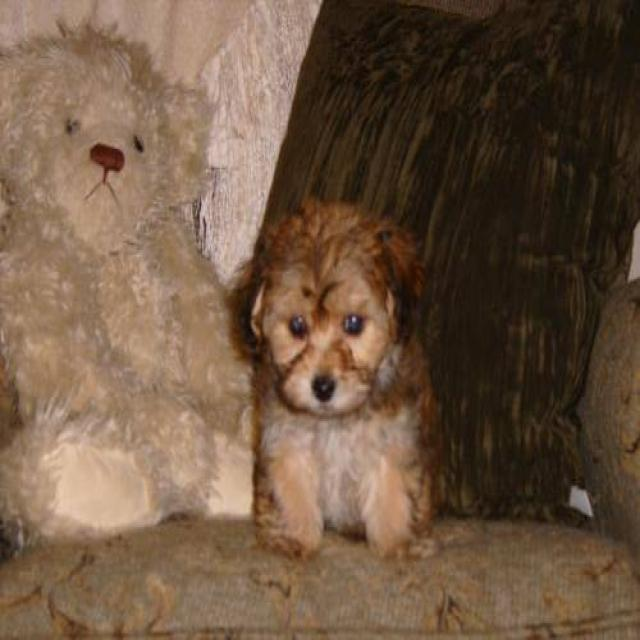dog: (228, 194, 444, 562)
